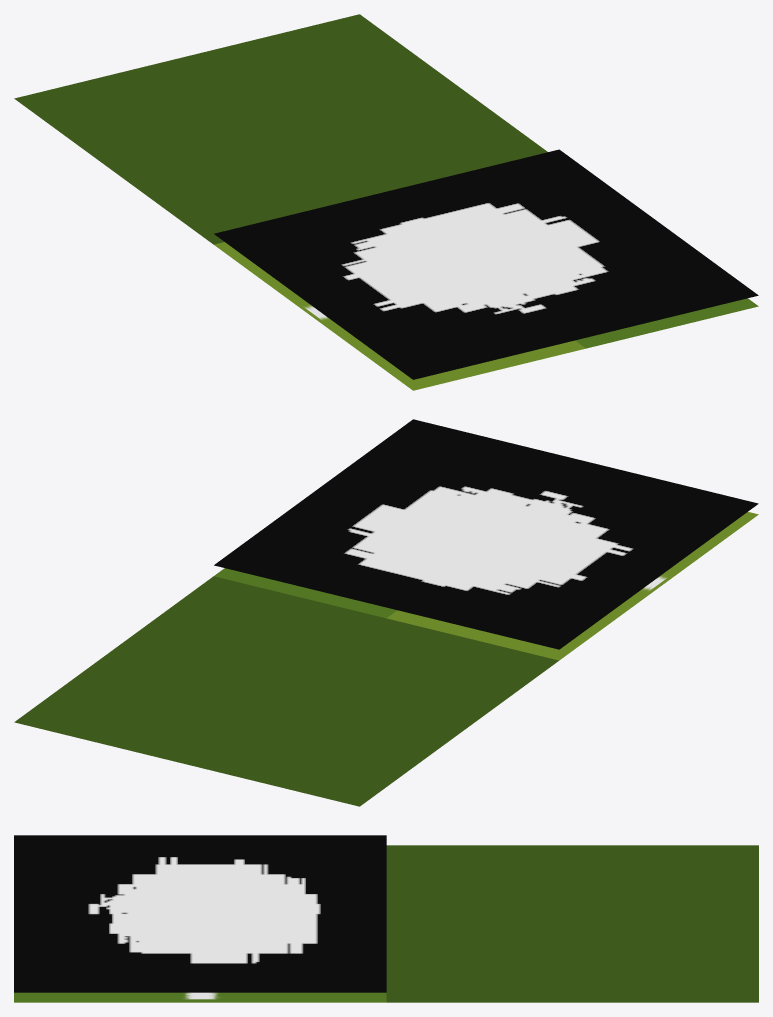
The model's file is pitch.glb.
3 views of the same model, one above another, from view 1: azimuth 30°, elevation 25°; view 2: azimuth 150°, elevation 25°; view 3: azimuth 270°, elevation 25° (orthographic). The views are drawn at different scales.
Parts seen in each view (by area): view 1: centre spot, grass_border, grass_light, grass_dark; view 2: grass_border, centre spot, grass_light, grass_dark; view 3: grass_border, centre spot, grass_dark.
Part boxes in pixels (left/top/right/bottom): centre spot: left=214, top=149, right=758, bottom=379; grass_border: left=14, top=14, right=547, bottom=244; grass_light: left=214, top=242, right=585, bottom=390; grass_dark: left=575, top=298, right=758, bottom=348; grass_border: left=14, top=576, right=558, bottom=806; centre spot: left=214, top=419, right=758, bottom=649; grass_light: left=387, top=512, right=758, bottom=660; grass_dark: left=214, top=568, right=396, bottom=618; grass_border: left=386, top=845, right=758, bottom=1002; centre spot: left=14, top=835, right=386, bottom=992; grass_dark: left=14, top=992, right=386, bottom=1002.
Size of the model in its own units: 1 by 0.03 by 2.
5 materials, 2 textured.
